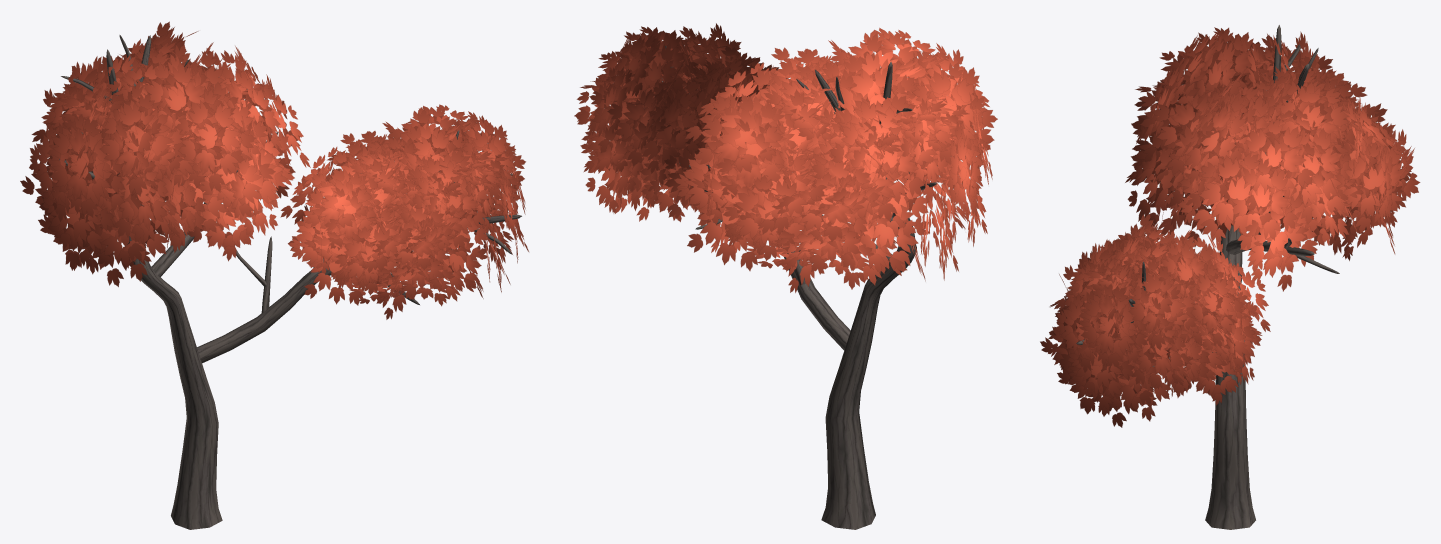
The model's file is MapleTree_1.glb.
3 views of the same model, side by side, from view 1: azimuth 30°, elevation 25°; view 2: azimuth 150°, elevation 25°; view 3: azimuth 270°, elevation 25° (orthographic). The views are drawn at different scales.
Parts seen in each view (by area): view 1: MapleTree_1; view 2: MapleTree_1; view 3: MapleTree_1.
Boxes of the visible parts, <box> form: MapleTree_1: <box>20,21,528,529</box>; MapleTree_1: <box>574,23,997,529</box>; MapleTree_1: <box>1040,25,1420,529</box>.
Bounding box in the file's own units: 6.23 × 6.64 × 4.9.
Materials: 2 (2 with a texture image).
